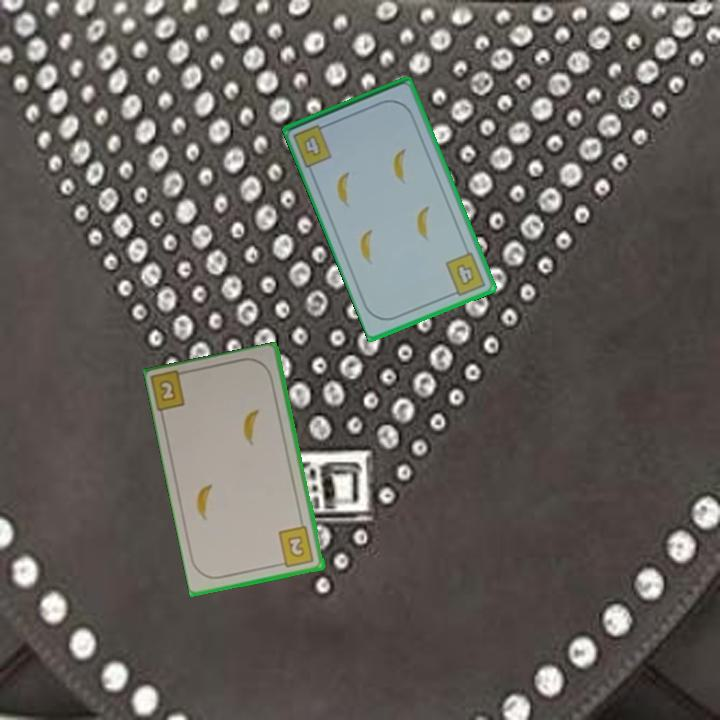2b: (149, 367, 193, 416), (275, 523, 317, 570)
4b: (442, 248, 489, 299), (289, 120, 335, 170)
